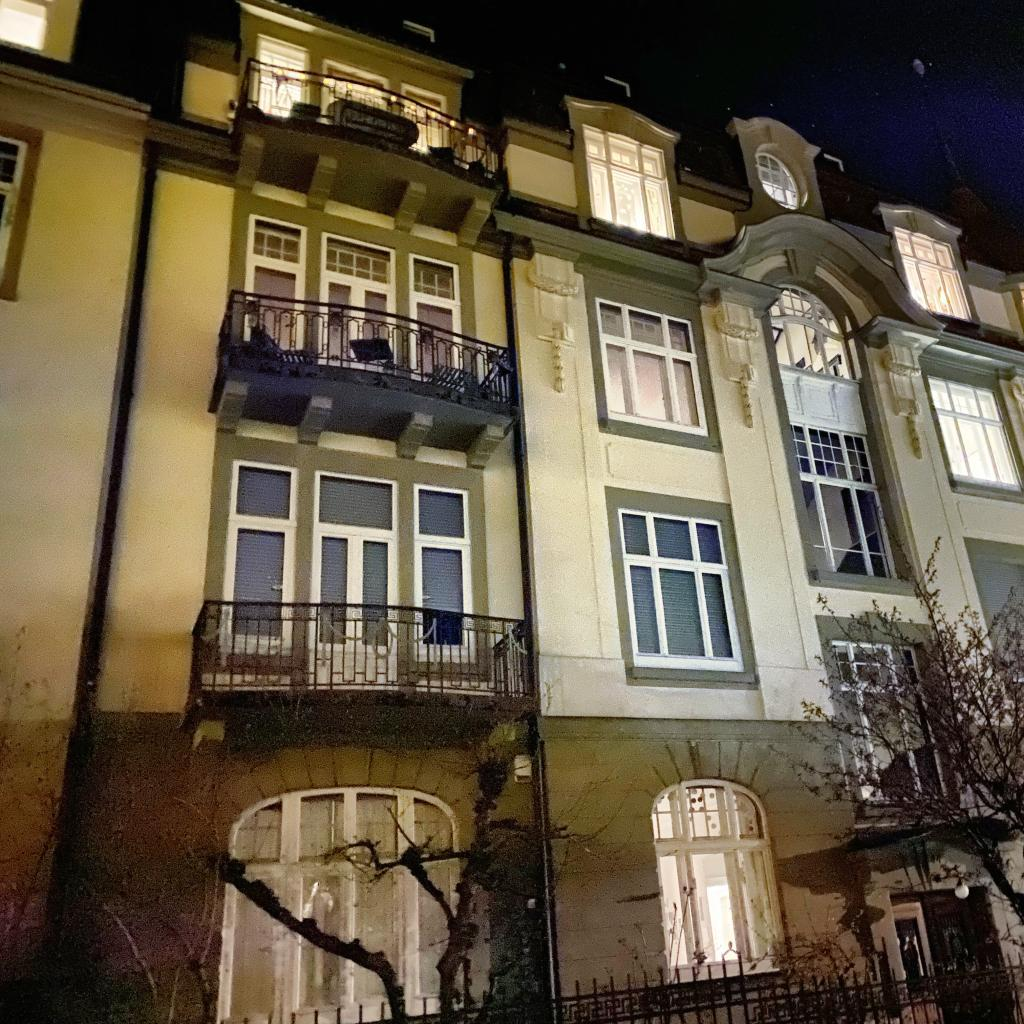balcony-fence: (188, 597, 538, 710), (216, 285, 520, 409), (237, 54, 502, 181)
facade: (0, 0, 1024, 1024)
fence: (217, 941, 1022, 1024)
vegetation: (0, 528, 1022, 1024)
window: (219, 785, 464, 1024), (223, 455, 478, 668), (240, 212, 466, 390), (648, 775, 785, 973), (255, 32, 452, 163), (618, 508, 744, 671), (827, 641, 949, 807), (788, 420, 901, 580), (594, 296, 709, 437), (922, 371, 1024, 492), (582, 121, 678, 241), (767, 284, 856, 382), (894, 226, 973, 322), (0, 132, 30, 276), (755, 152, 801, 209), (398, 18, 433, 43), (601, 72, 630, 100), (823, 153, 844, 174)
